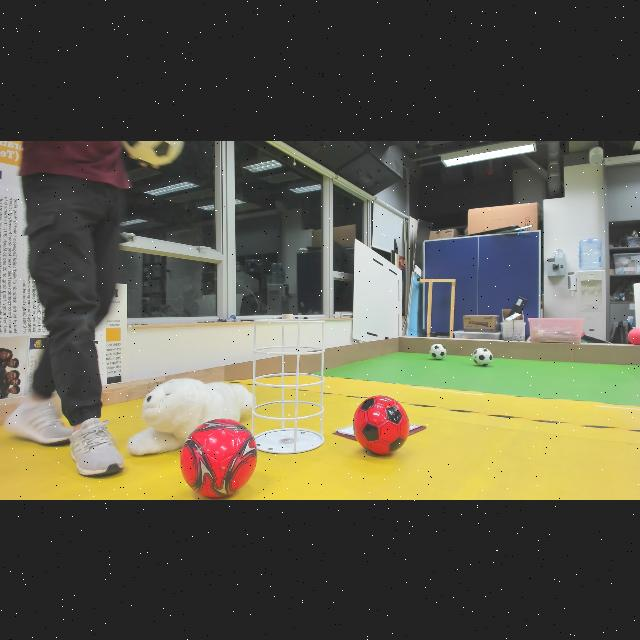R: (178, 416, 260, 500), (349, 392, 413, 458), (624, 326, 640, 344)
S: (249, 314, 329, 456)
